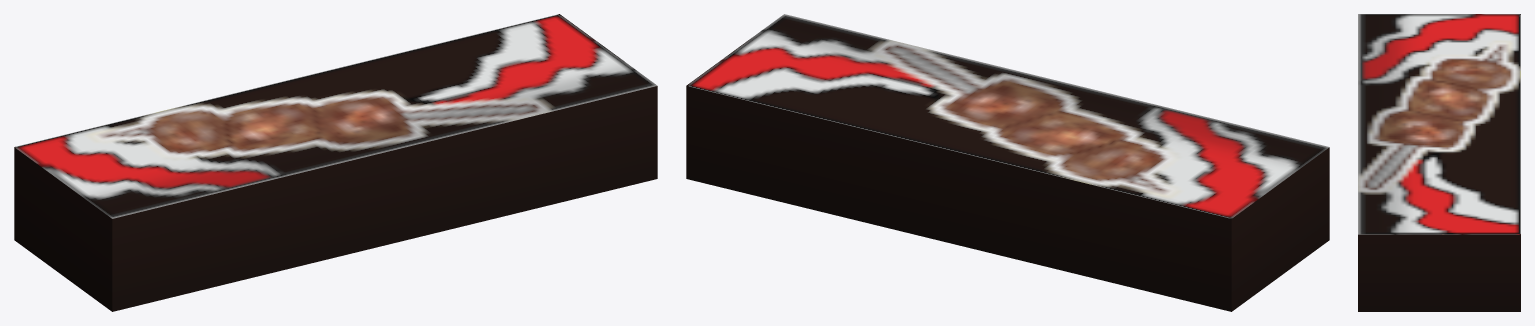
File: giftgoods071a.fbx
3 views of the same model, side by side, from view 1: azimuth 30°, elevation 25°; view 2: azimuth 150°, elevation 25°; view 3: azimuth 270°, elevation 25° (orthographic). The views are drawn at different scales.
Visible parts, largest first — view 1: giftgoods071a; view 2: giftgoods071a; view 3: giftgoods071a.
Part boxes in pixels (bbox=[...]): giftgoods071a: bbox=[14, 14, 657, 311]; giftgoods071a: bbox=[686, 14, 1329, 311]; giftgoods071a: bbox=[1358, 14, 1520, 311].
Bounding box in the file's own units: 0.5195 × 0.0847 × 0.1619.
